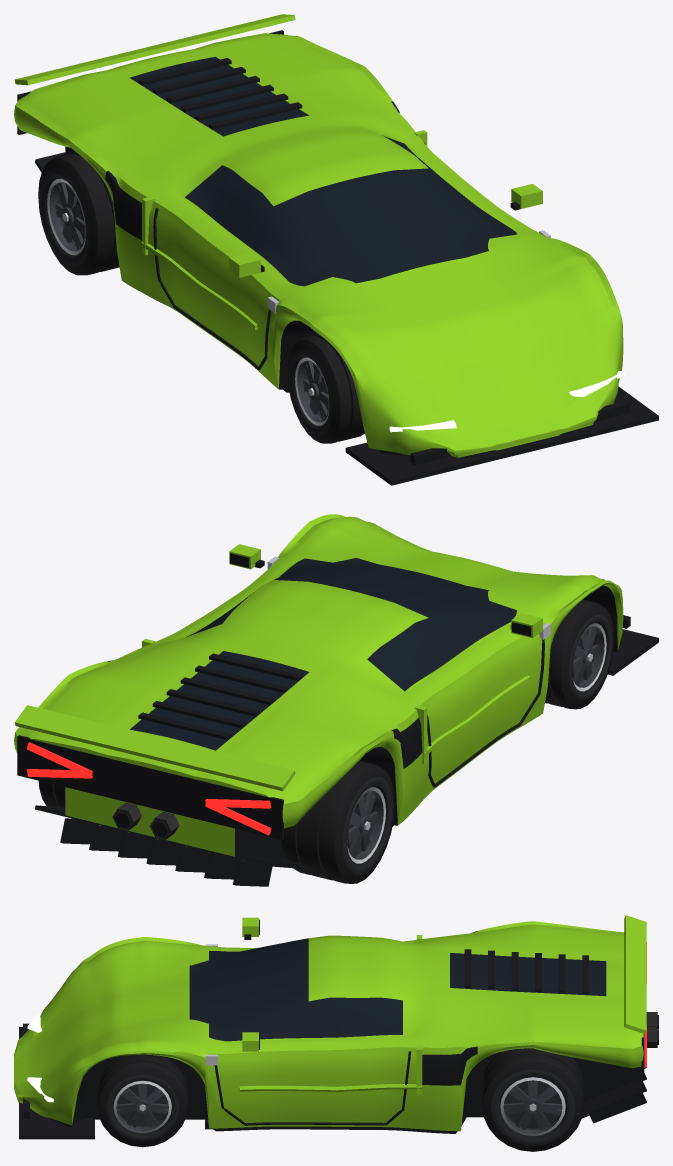
Rendered from razor.glb.
3 views of the same model, one above another, from view 1: azimuth 30°, elevation 25°; view 2: azimuth 150°, elevation 25°; view 3: azimuth 270°, elevation 25° (orthographic). The views are drawn at different scales.
Parts seen in each view (by area): view 1: body, wheel_RR, wheel_FR; view 2: body, wheel_RR, wheel_FR, wheel_RL; view 3: body, wheel_RL, wheel_FL.
Part boxes in pixels (x1,y1,x2,y2): body: [14, 14, 658, 485]; wheel_RR: [38, 152, 119, 275]; wheel_FR: [287, 334, 364, 443]; body: [14, 514, 658, 886]; wheel_RR: [282, 760, 394, 883]; wheel_FR: [545, 599, 614, 709]; wheel_RL: [38, 781, 65, 807]; body: [14, 915, 658, 1139]; wheel_RL: [481, 1048, 584, 1151]; wheel_FL: [97, 1054, 188, 1147].
Bounding box in the file's own units: 2.12 × 1.06 × 4.66.
